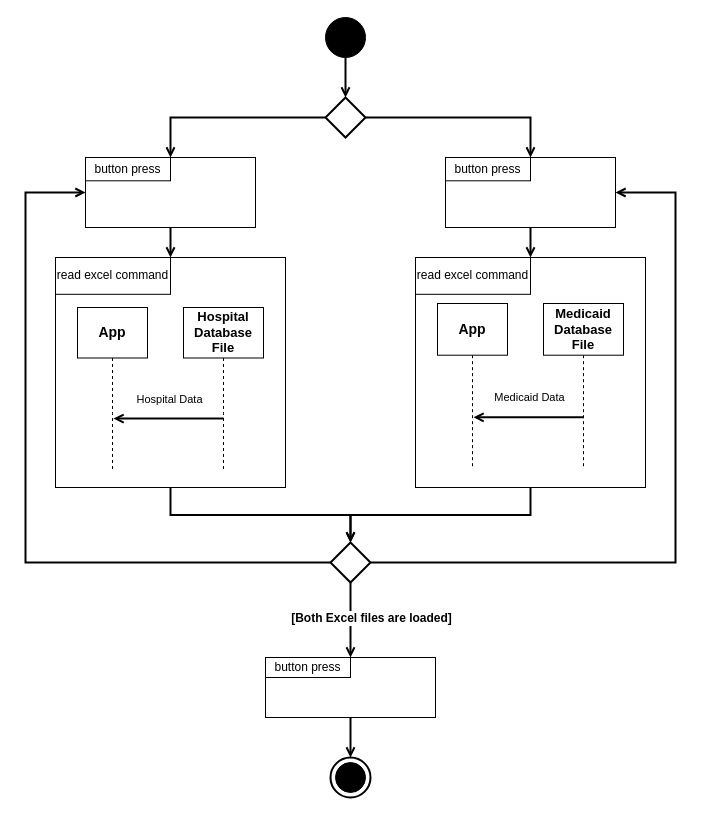
Image size: 701x816. Some labels were removed from this diagram. The box of each missing label's shape, as (x1, y1, x2, y2) in pixels:
Combine Data: (264, 656, 436, 718)
Read Excel File 1: (84, 156, 256, 228)
Read Excel File 2: (444, 156, 616, 228)
